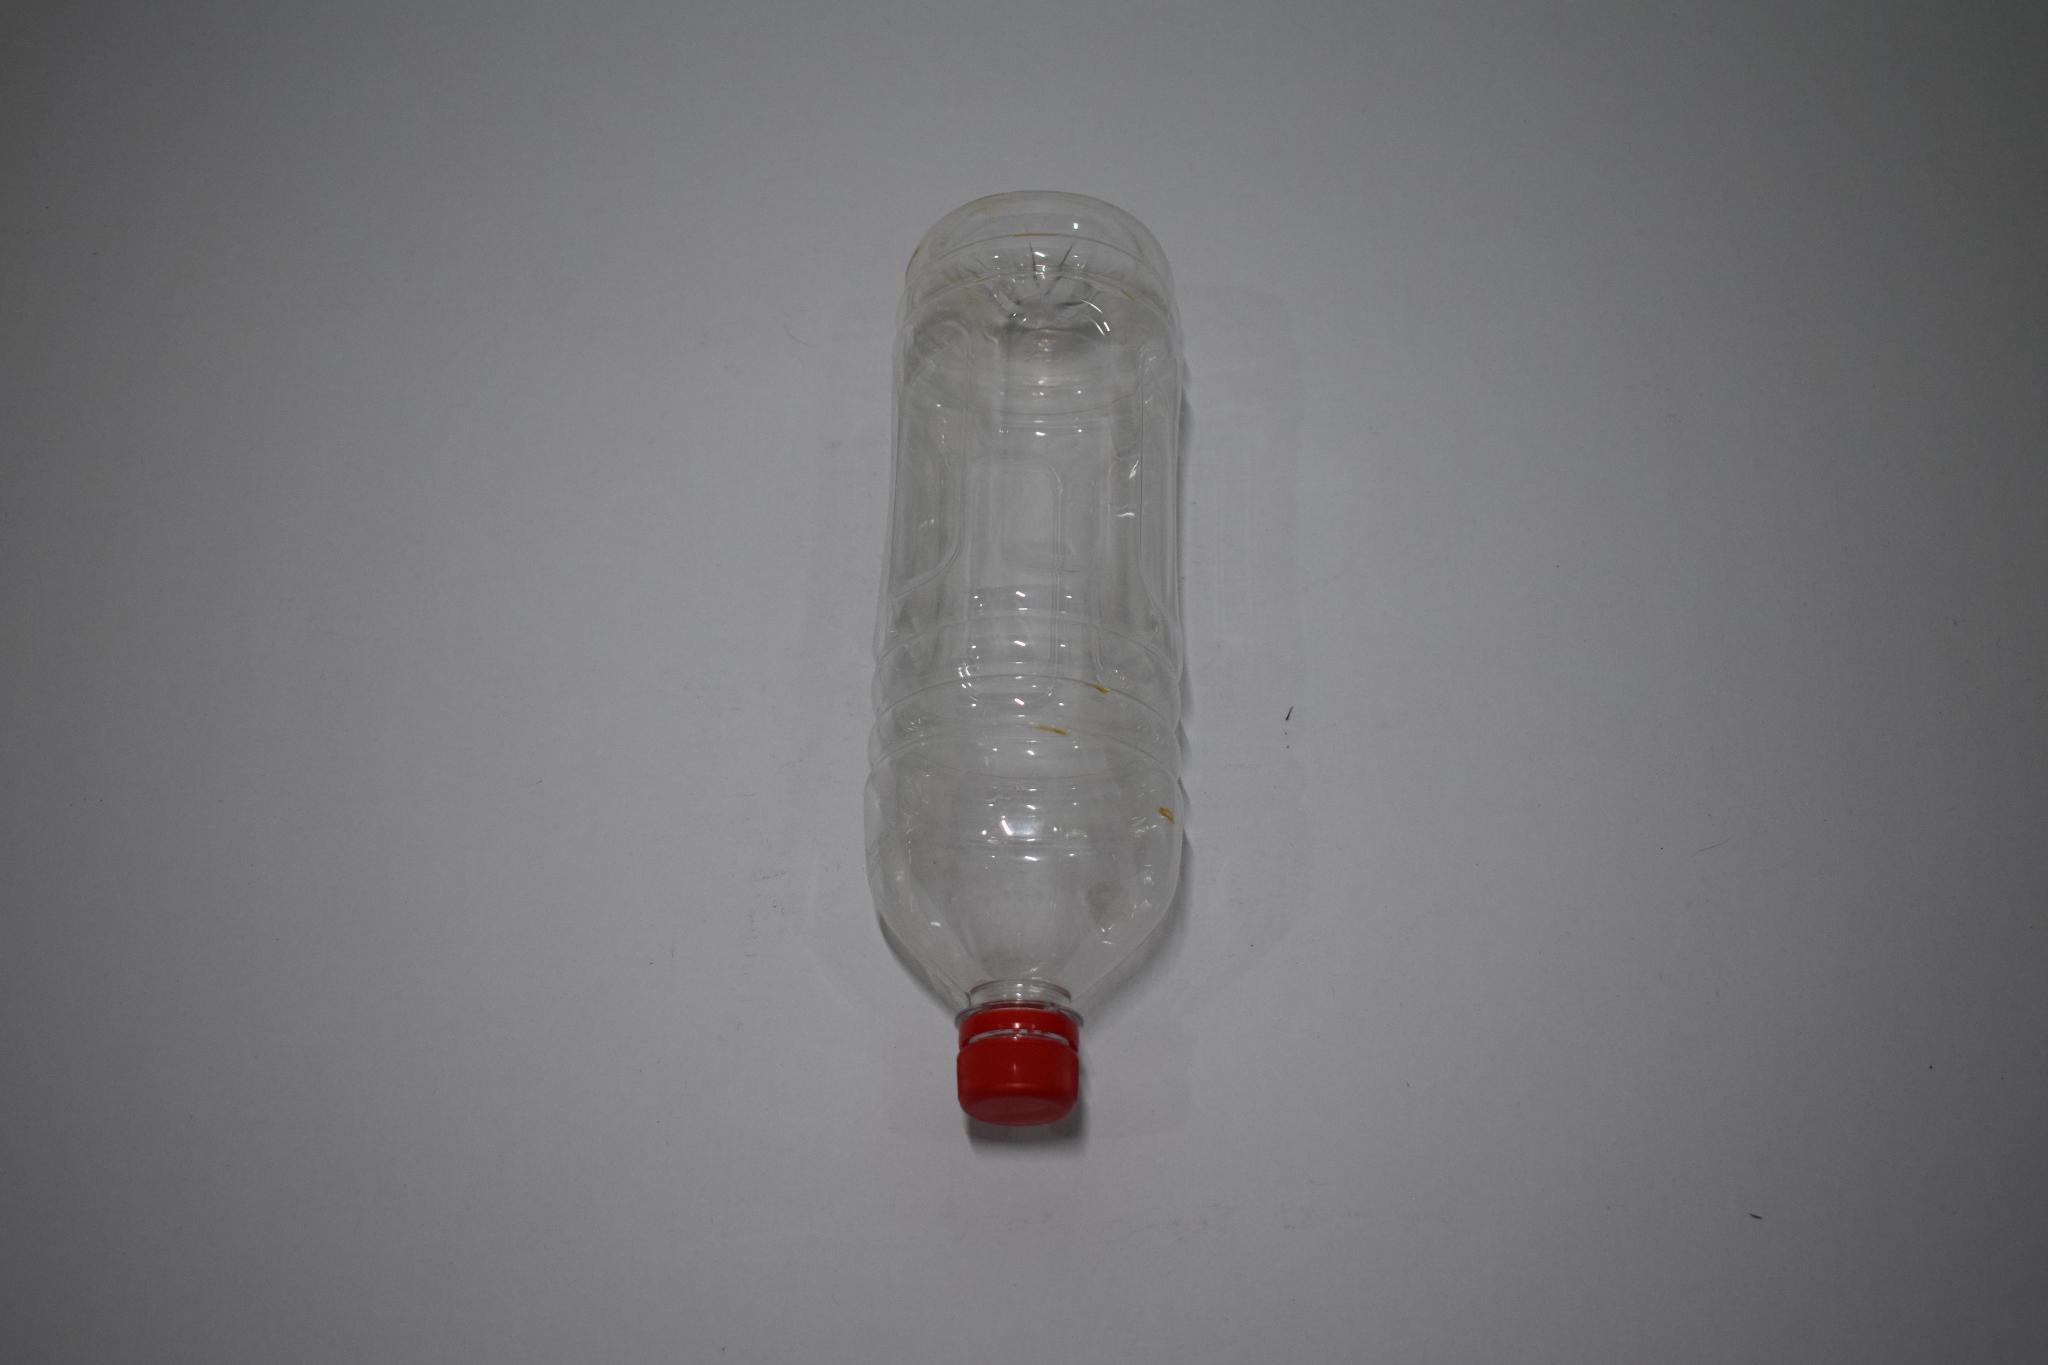bottle: (866, 191, 1208, 1135)
